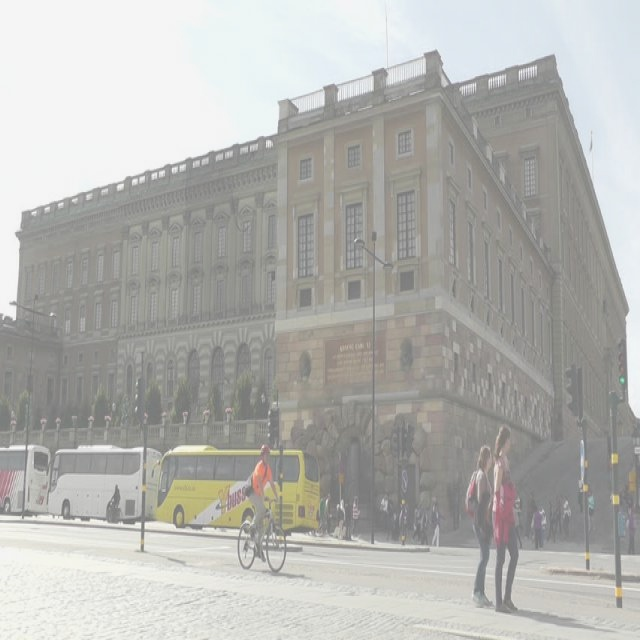pessoa: (488, 422, 521, 614), (464, 443, 494, 609), (242, 440, 280, 566), (386, 494, 409, 542), (450, 470, 463, 534), (333, 497, 351, 543), (625, 501, 638, 555), (409, 502, 424, 544), (532, 504, 544, 552), (524, 490, 536, 538), (576, 477, 591, 515), (511, 505, 523, 552), (430, 501, 442, 548), (419, 506, 432, 546), (545, 498, 556, 544), (351, 493, 362, 538), (538, 502, 548, 550), (412, 498, 422, 546), (606, 448, 613, 514), (552, 491, 562, 536), (562, 493, 572, 538), (618, 480, 633, 510), (430, 494, 440, 536), (514, 486, 523, 530), (588, 486, 596, 534), (320, 490, 328, 534), (110, 482, 122, 510), (326, 492, 332, 535), (380, 491, 390, 514)
